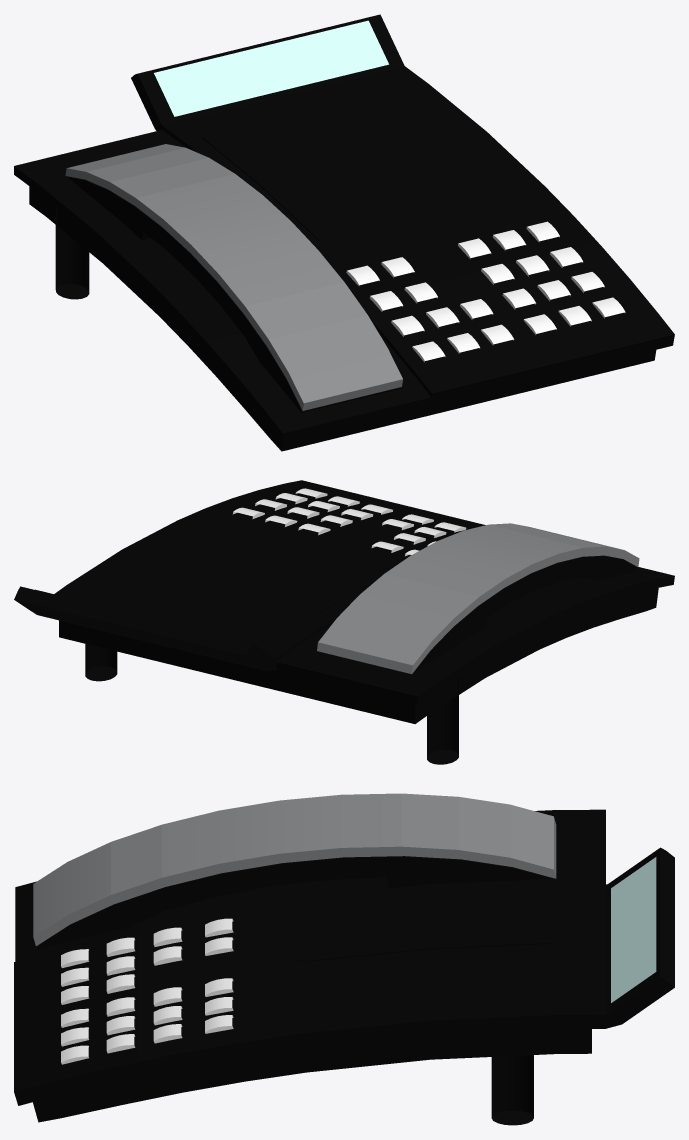
File: telefono.fbx
The picture shows the model from 3 angles, top to bottom: view 1: azimuth 30°, elevation 25°; view 2: azimuth 150°, elevation 25°; view 3: azimuth 270°, elevation 25°; orthographic projection. The views are drawn at different scales.
Visible parts, largest first — view 1: Plane; view 2: Plane; view 3: Plane.
Part boxes in pixels (left/top/right/bottom): Plane: left=14, top=14, right=674, bottom=451; Plane: left=14, top=480, right=674, bottom=764; Plane: left=14, top=793, right=674, bottom=1125.
Bounding box in the file's own units: 30 × 10 × 40.
